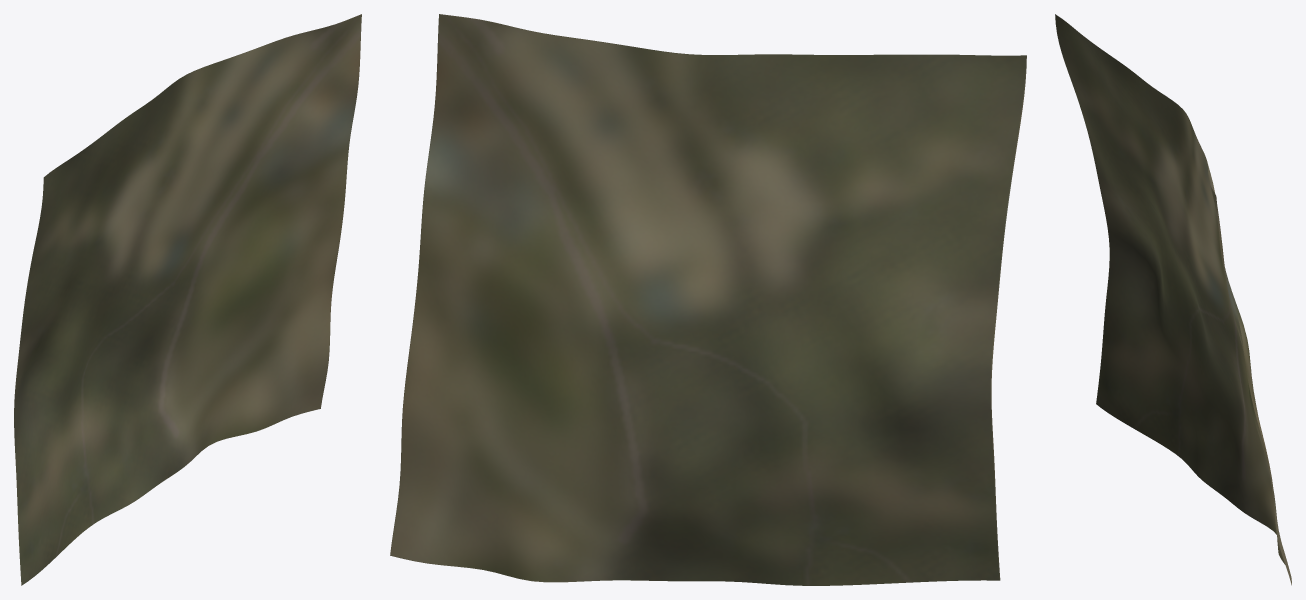
Rendered from ground_mid_03_03.obj.
3 renders of one model, left to right at view 1: azimuth 30°, elevation 25°; view 2: azimuth 150°, elevation 25°; view 3: azimuth 270°, elevation 25°, orthographic. The views are drawn at different scales.
Parts seen in each view (by area): view 1: ground_mid_03_03; view 2: ground_mid_03_03; view 3: ground_mid_03_03.
Boxes of the visible parts, left/top/right/bottom form: ground_mid_03_03: left=14, top=14, right=361, bottom=585; ground_mid_03_03: left=390, top=14, right=1026, bottom=585; ground_mid_03_03: left=1055, top=14, right=1291, bottom=585.
Bounding box in the file's own units: 200 × 200 × 110.
Materials: 1 (1 with a texture image).
